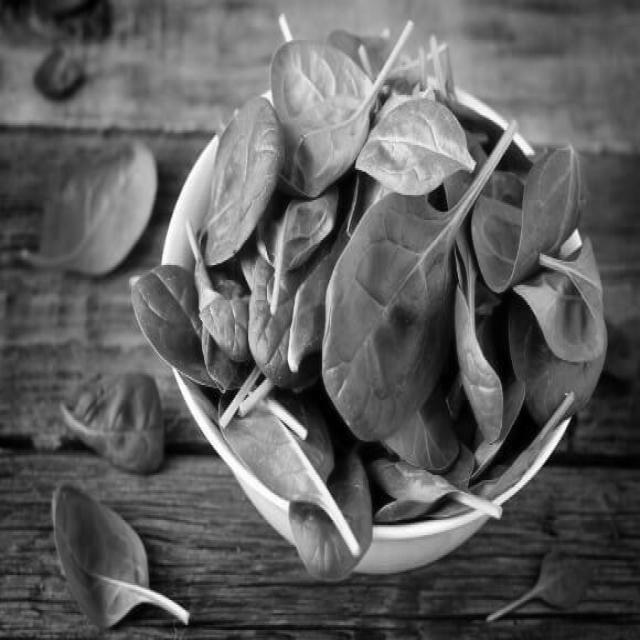Spinach: (120, 14, 619, 595)
